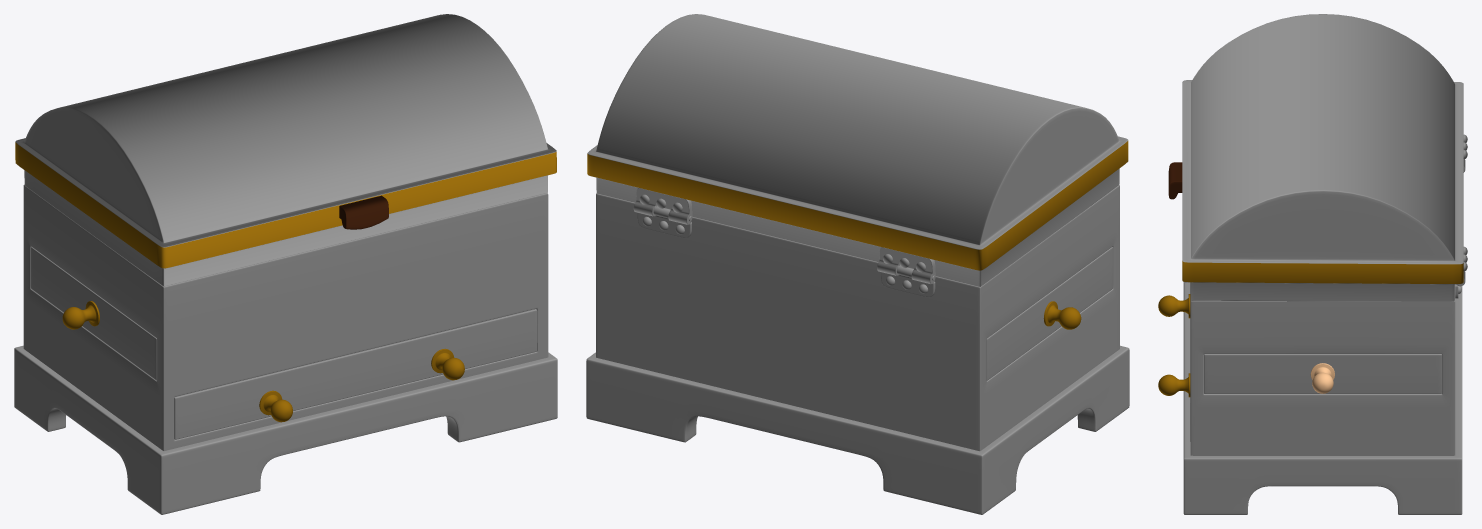
The model's file is Velvet Box.FBX.
3 views of the same model, side by side, from view 1: azimuth 30°, elevation 25°; view 2: azimuth 150°, elevation 25°; view 3: azimuth 270°, elevation 25° (orthographic). The views are drawn at different scales.
Parts seen in each view (by area): view 1: 20411_Jewelry_Box_many_compartments_v1; view 2: 20411_Jewelry_Box_many_compartments_v1; view 3: 20411_Jewelry_Box_many_compartments_v1.
Part boxes in pixels (x1=…): 20411_Jewelry_Box_many_compartments_v1: x1=14, y1=14, x2=557, y2=514; 20411_Jewelry_Box_many_compartments_v1: x1=586, y1=14, x2=1129, y2=514; 20411_Jewelry_Box_many_compartments_v1: x1=1158, y1=14, x2=1467, y2=514.
Bounding box in the file's own units: 32.54 × 23.91 × 20.82.
